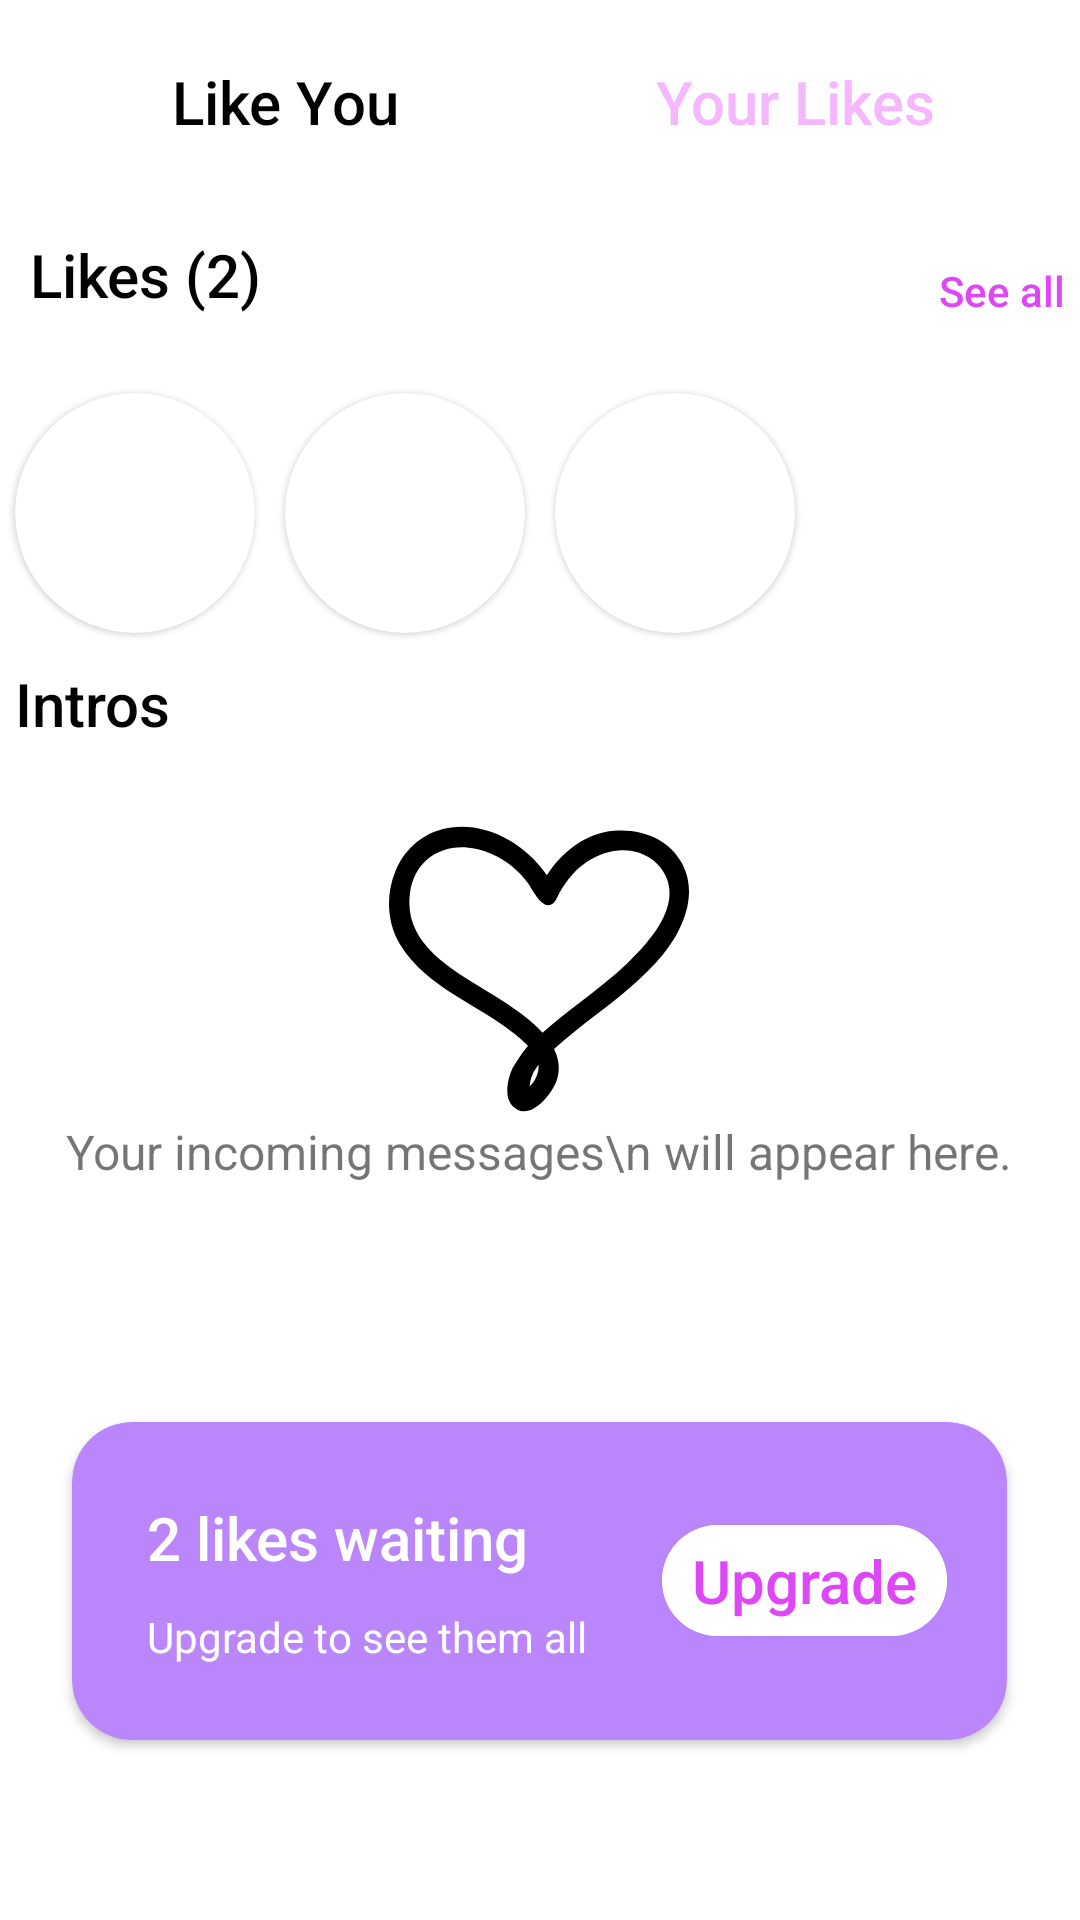

Where to tap for icons on this 1080 × 1920 app screen, as (x,y):
love: (539,969)
